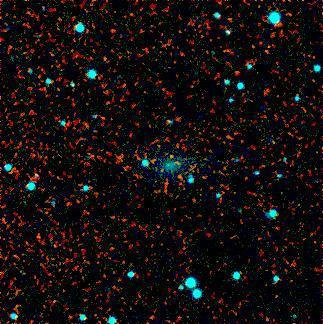star: (159, 140, 189, 170)
